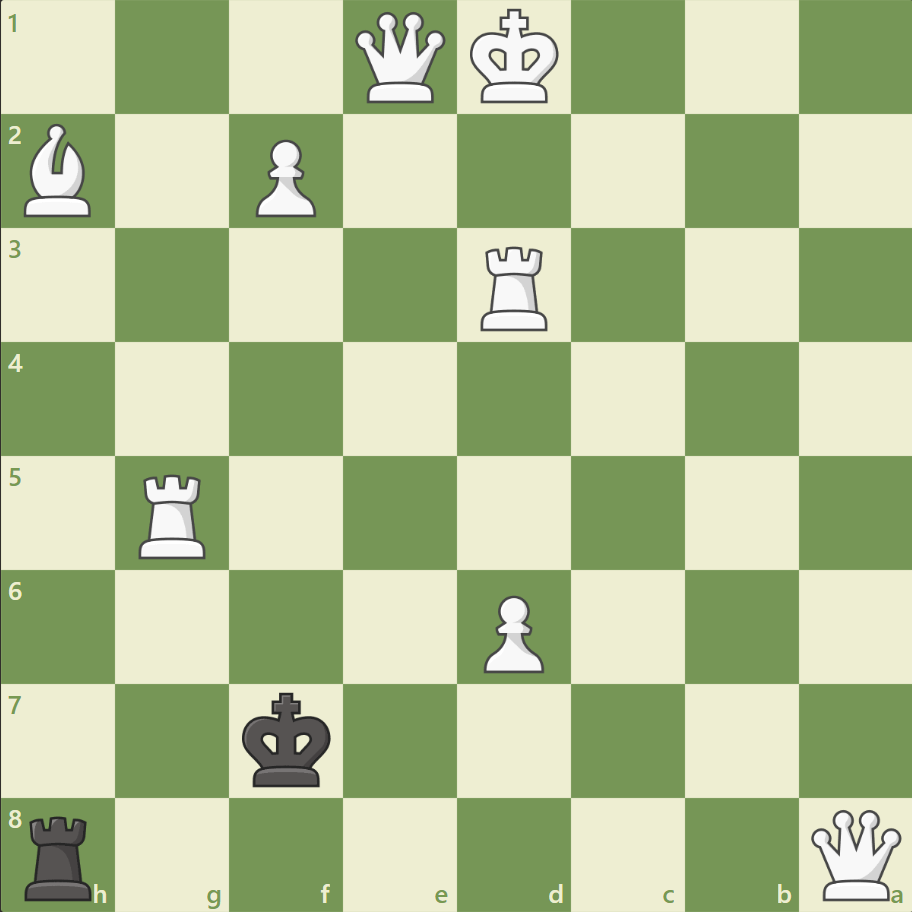B: (17, 120, 101, 222)
K: (465, 4, 565, 112)
P: (474, 586, 549, 677), (247, 132, 322, 223)
Q: (805, 804, 904, 903), (351, 9, 450, 108)
R: (473, 239, 556, 336), (133, 466, 215, 563)
k: (238, 685, 338, 793)
r: (19, 806, 102, 904)
